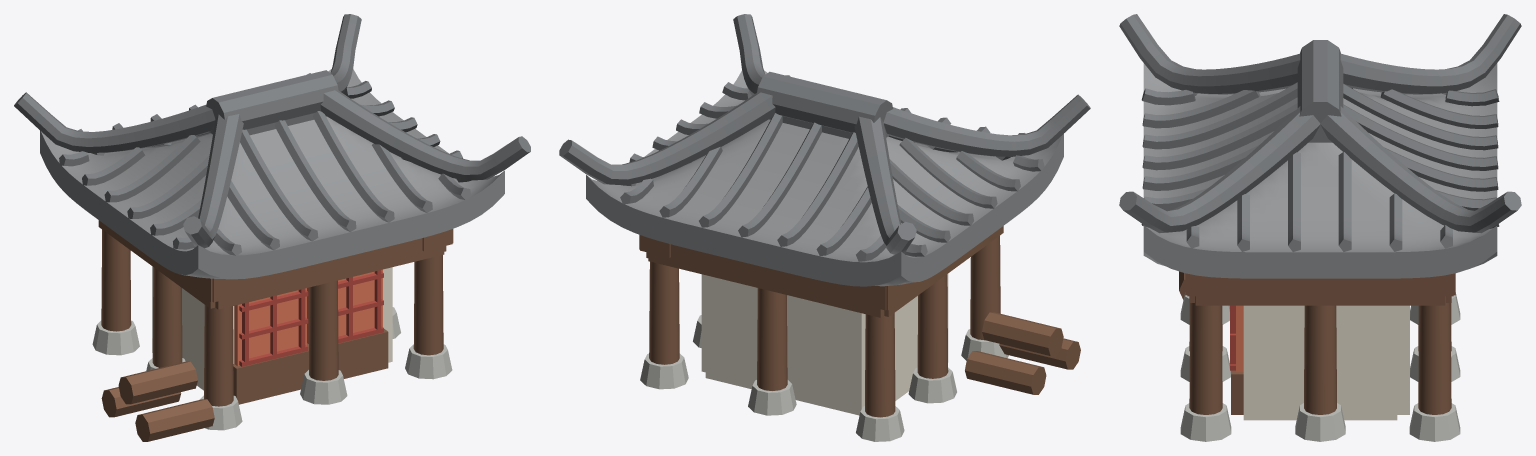
File: SonMon_wood.fbx
The picture shows the model from 3 angles, left to right: view 1: azimuth 30°, elevation 25°; view 2: azimuth 150°, elevation 25°; view 3: azimuth 270°, elevation 25°; orthographic projection. The views are drawn at different scales.
Parts seen in each view (by area): view 1: wood; view 2: wood; view 3: wood.
Boxes of the visible parts, <box> form: wood: <box>14,14,530,441</box>; wood: <box>559,14,1090,441</box>; wood: <box>1119,14,1521,441</box>.
Bounding box in the file's own units: 2.22 × 1.6 × 1.93.
